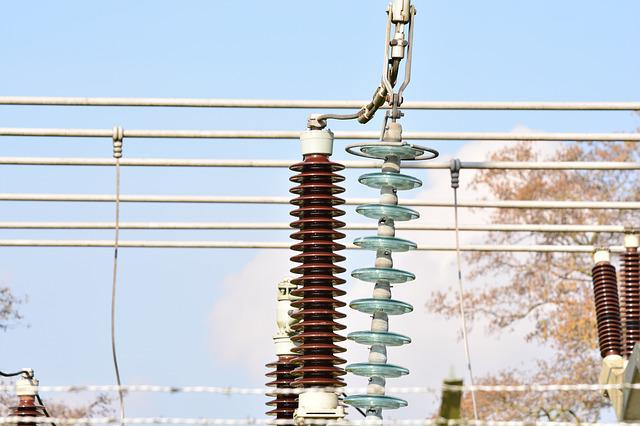isolator: (343, 145, 424, 412)
